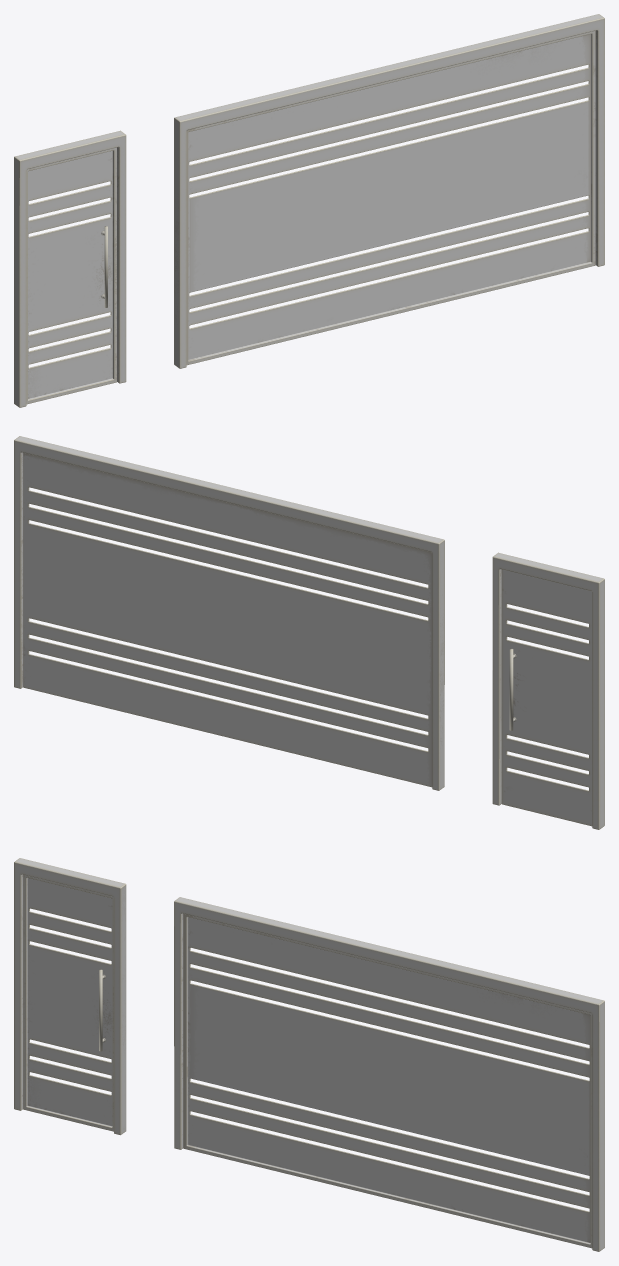
The model's file is garage_door.glb.
3 views of the same model, one above another, from view 1: azimuth 30°, elevation 25°; view 2: azimuth 150°, elevation 25°; view 3: azimuth 330°, elevation 25° (orthographic).
Visible parts, largest first — view 1: folha, folha_pq; view 2: folha, folha_pq; view 3: folha, folha_pq.
Part boxes in pixels (x1,y1,x2,y2): folha: (174, 14, 604, 368); folha_pq: (14, 130, 126, 407); folha: (14, 436, 444, 790); folha_pq: (492, 552, 604, 829); folha: (174, 897, 604, 1251); folha_pq: (14, 858, 126, 1135).
Size of the model in its own units: 5.7 by 2.3 by 0.142.
Materials: 5 (5 with a texture image).
